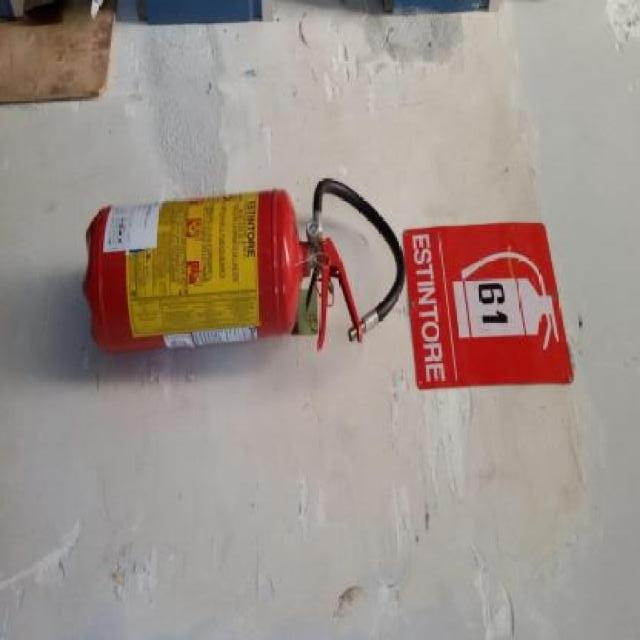fire extinguisher: (82, 179, 406, 353)
